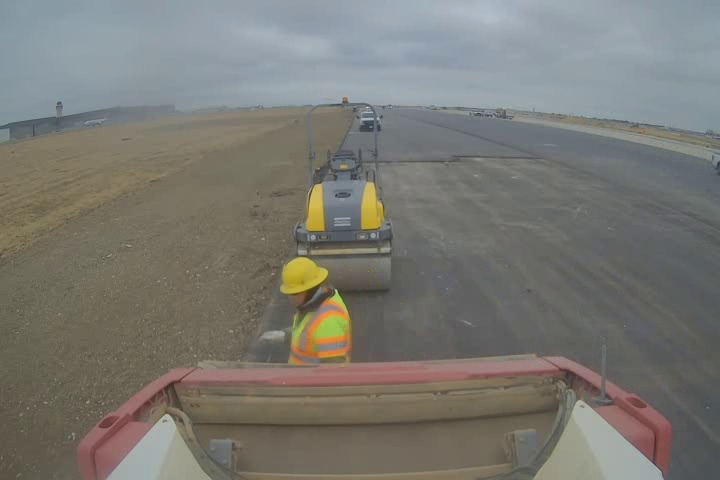person: (255, 256, 357, 367)
vehicle: (72, 351, 671, 480), (293, 102, 394, 293), (351, 108, 385, 130)
vest: (277, 298, 351, 364)
yellow_helmet: (275, 258, 332, 320)
